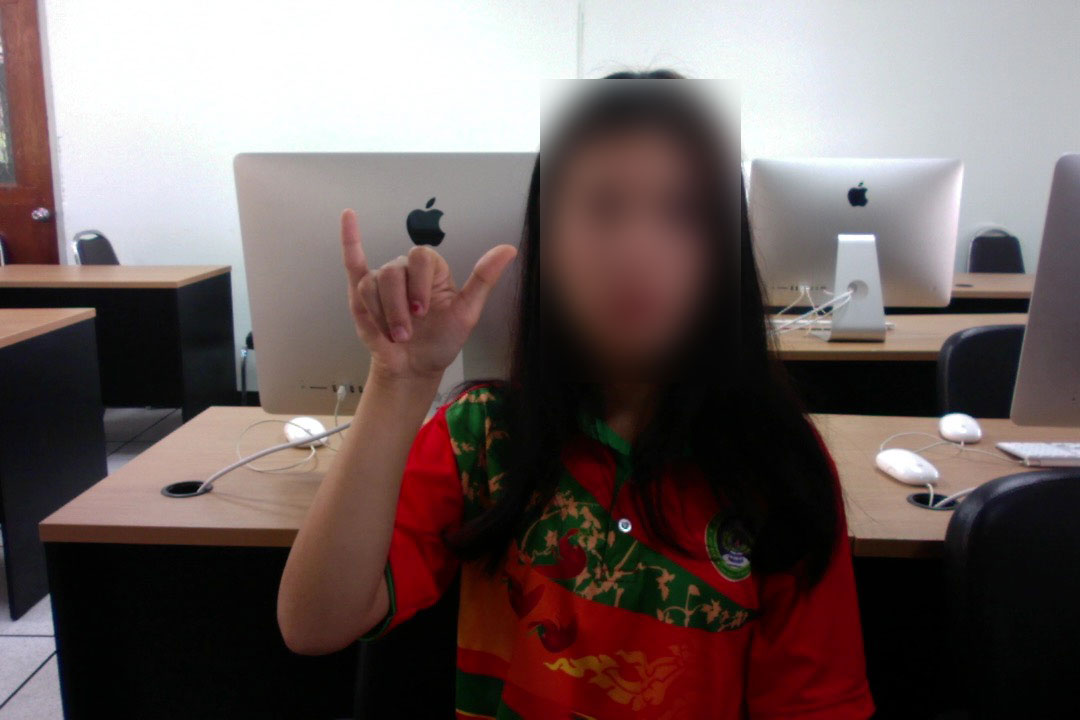yor: (334, 201, 525, 389)
